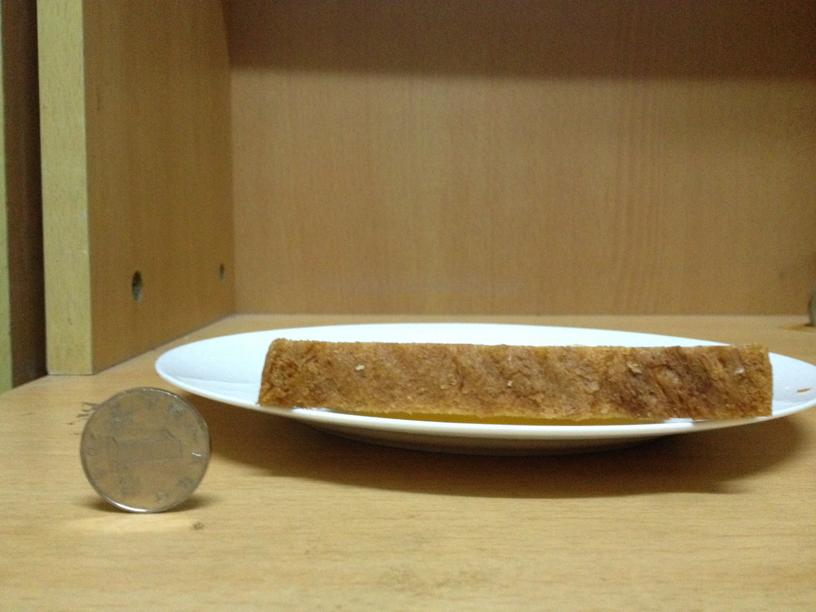bread: (251, 329, 775, 423)
coin: (68, 389, 216, 512)
